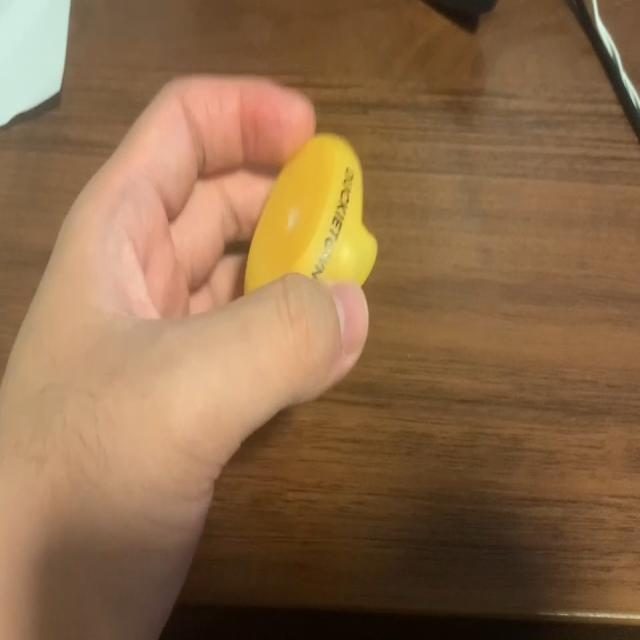rubber-duck: (244, 133, 375, 291)
